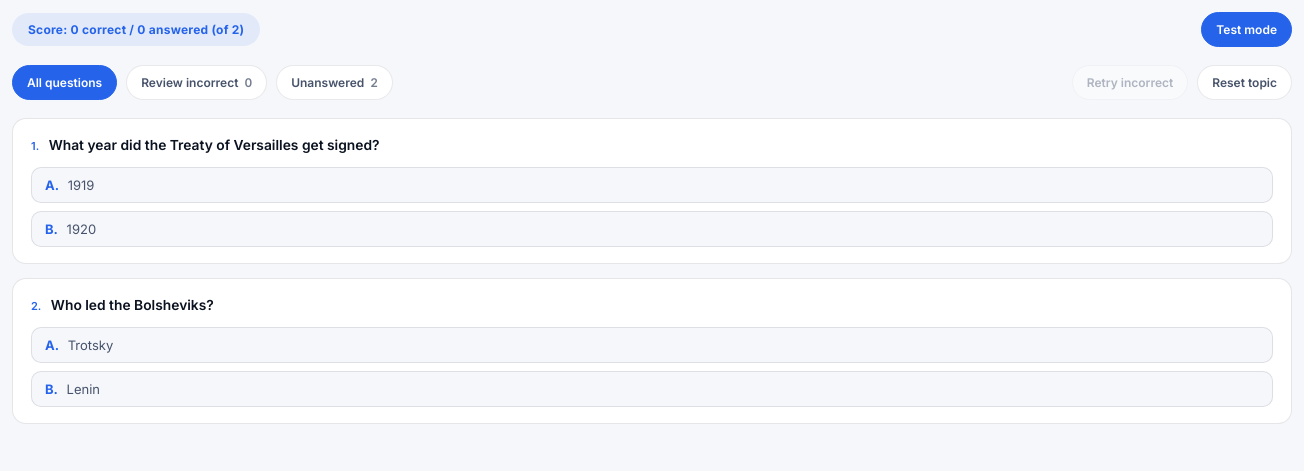
QuizPanel › filters to unanswered and back to all
Click the button "A. 1919" at {"x": 50, "y": 185}, box [31,167,1273,203]
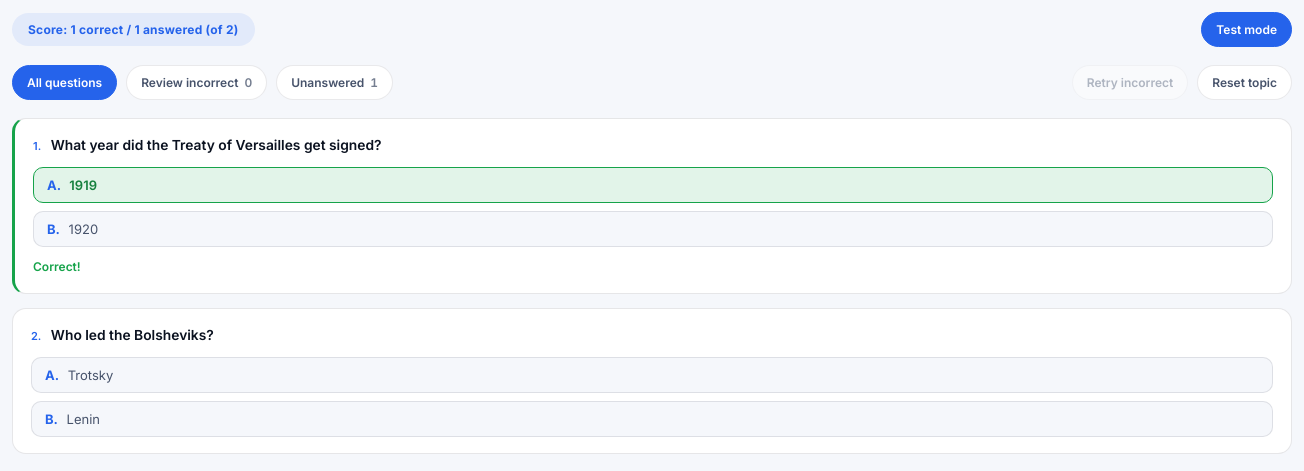
Click the button "Unanswered 1" at {"x": 335, "y": 83}, box [276,65,393,100]
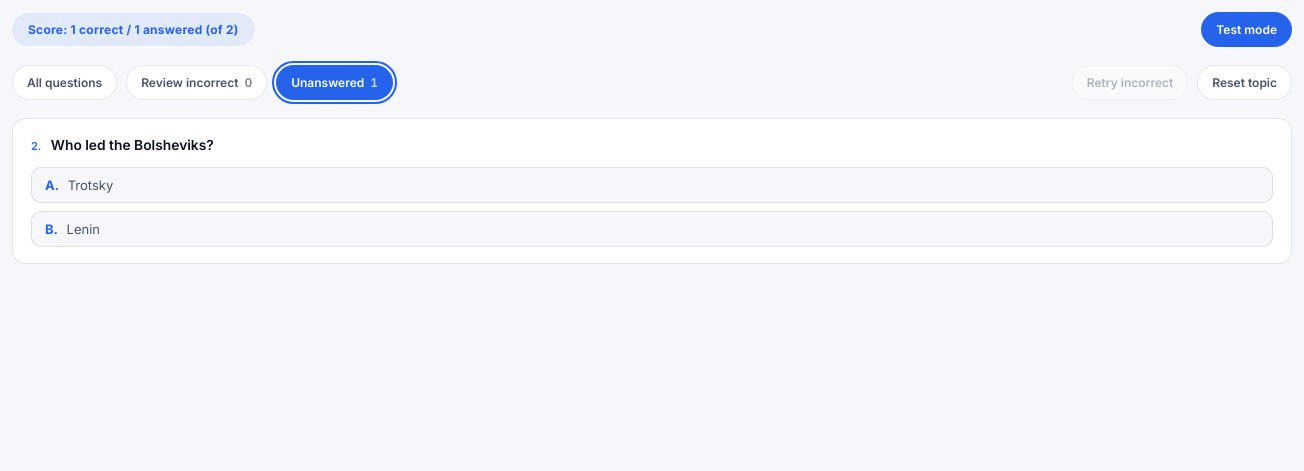
Expected: the text "Who led the Bolsheviks?" is shown, [51,137,214,153]
Expected: the text "Treaty of Versailles" is gone
Click the button "All questions" at {"x": 65, "y": 83}, box [12,65,117,100]
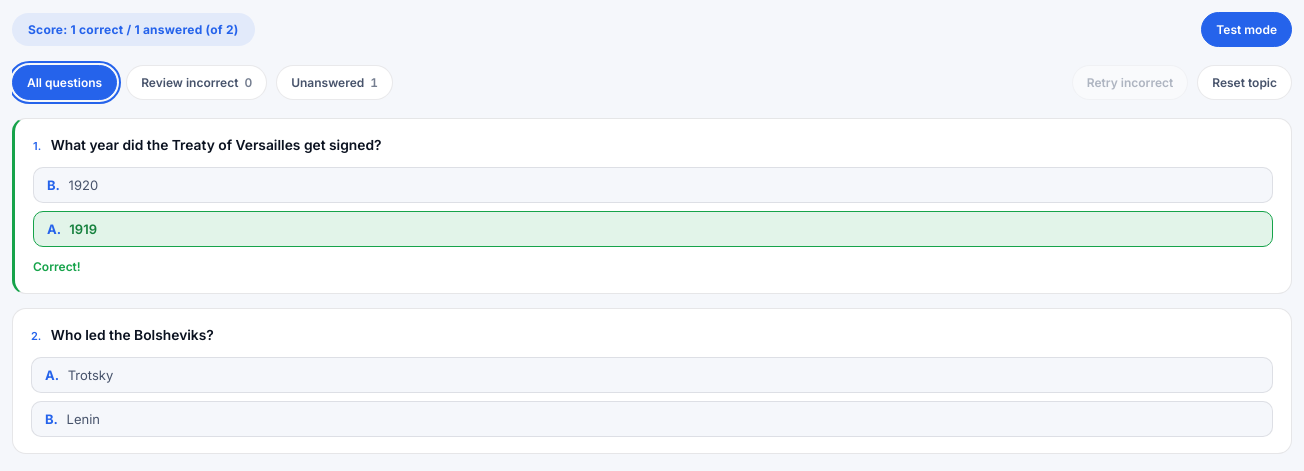
Expected: the text "What year did the Treaty of Versailles get signed?" is shown, [51,137,382,153]
